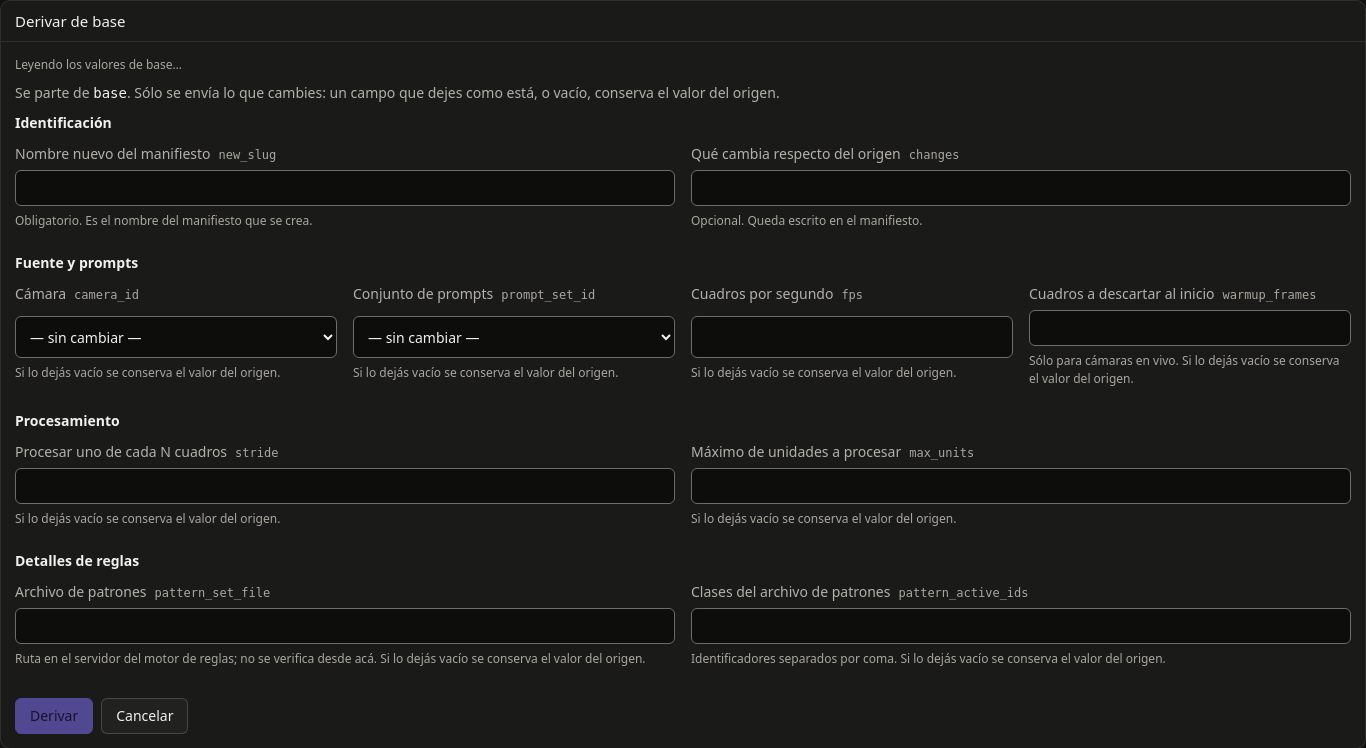
Scenario: DeriveExperimentForm › un valor no numérico en warmup_frames no se manda (evita el borrado silencioso vía null) y muestra un error
In the field labelled "Nombre nuevo del manifiesto new_slug": (345,188) [15,170,675,206], type "nuevo"
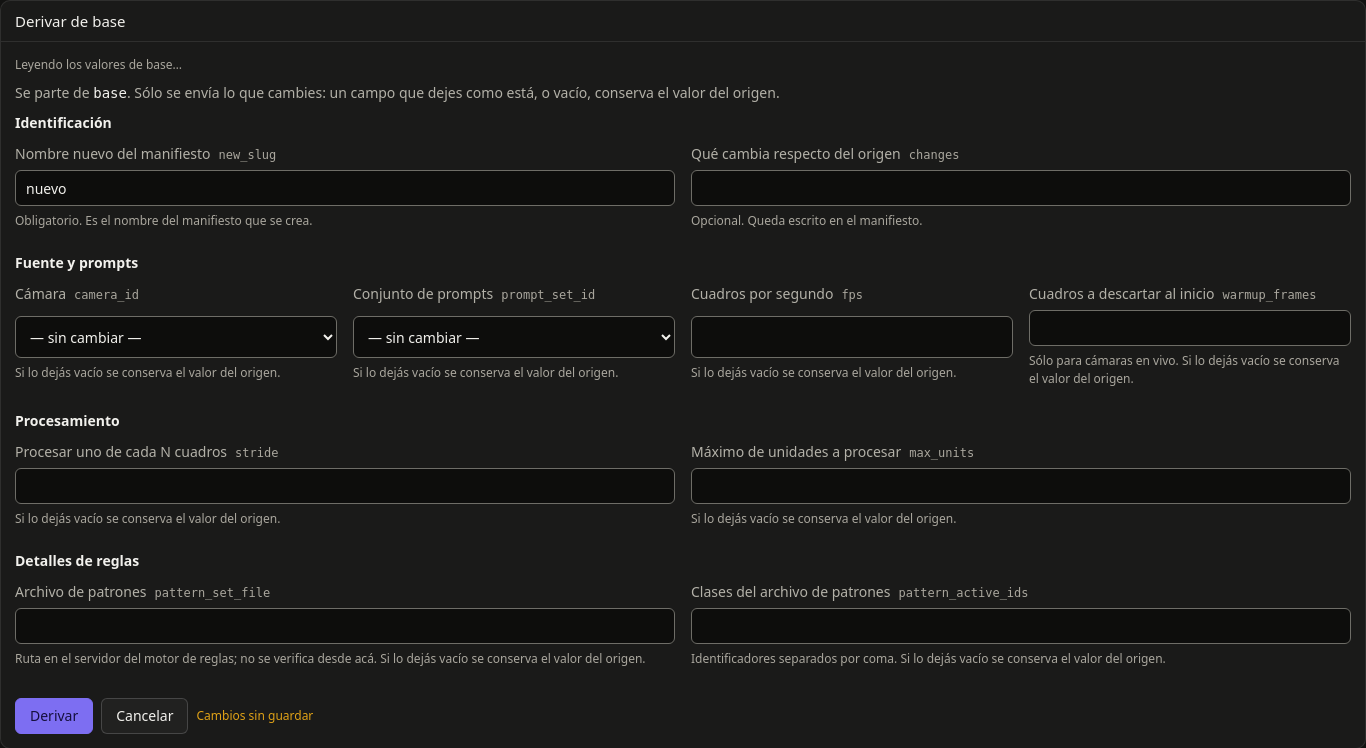
In the field labelled "Cuadros a descartar al inicio warmup_frames": (1190,328) [1029,310,1351,346], type "3o"
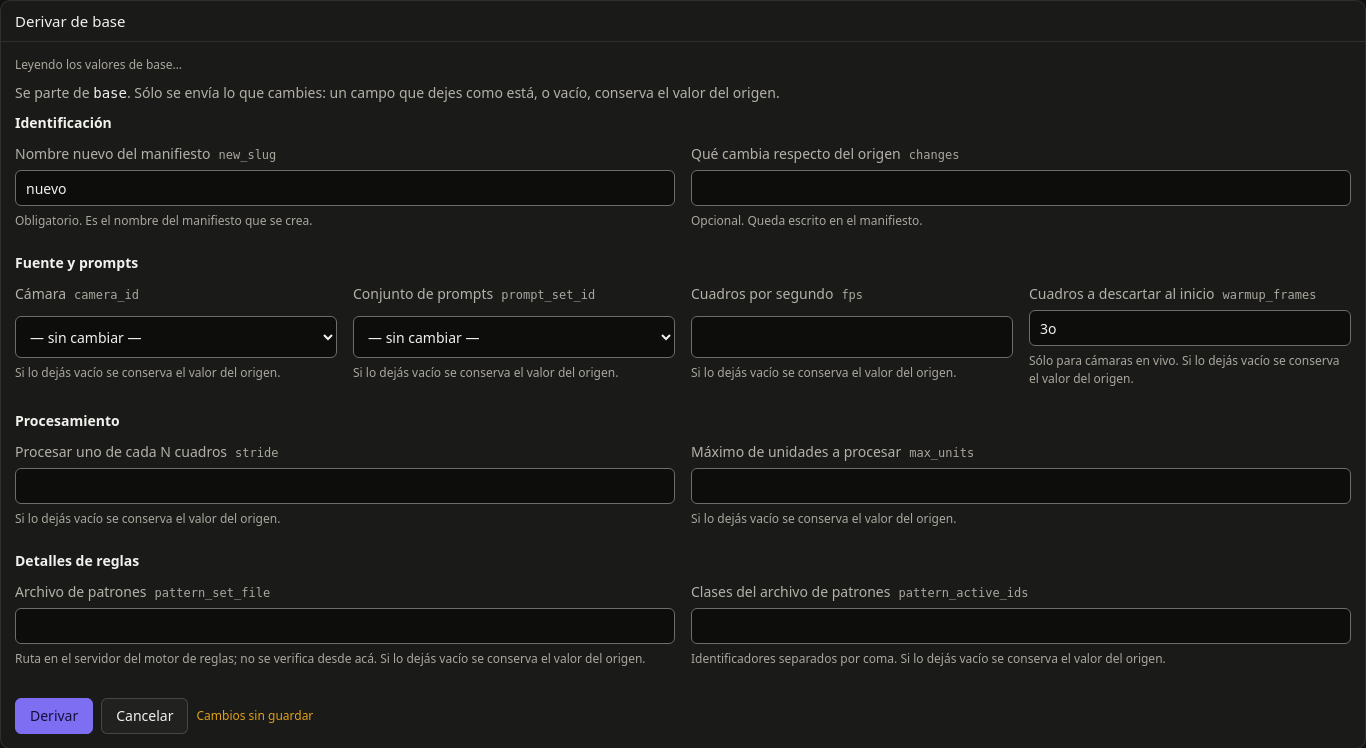
Click the button "Derivar": (54,716) [15,698,93,734]
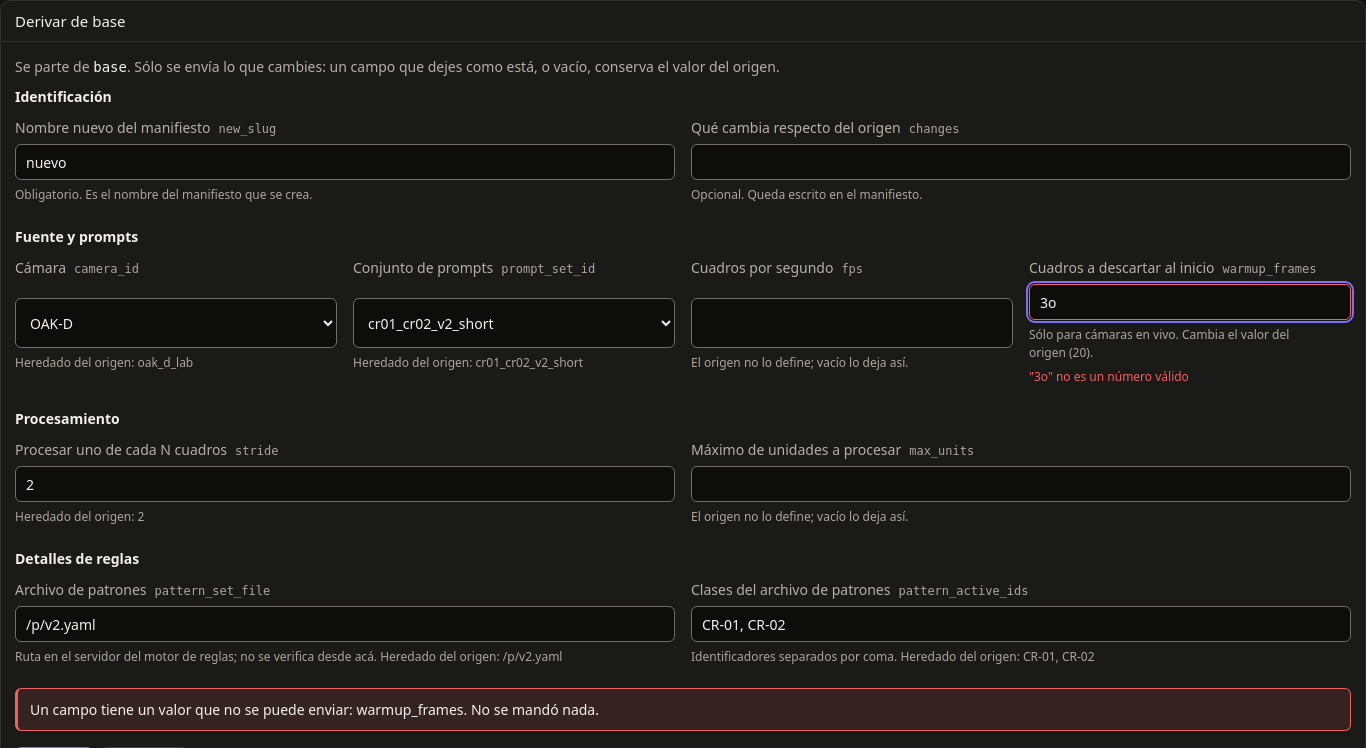
Expected: the text "\"3o\" no es un número válido" is shown, [1029,368,1189,385]
